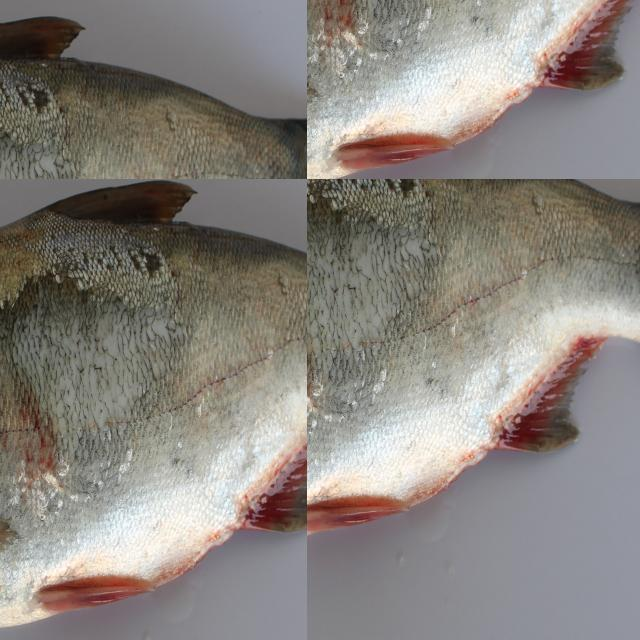fish: (307, 179, 640, 543), (0, 423, 307, 640)
